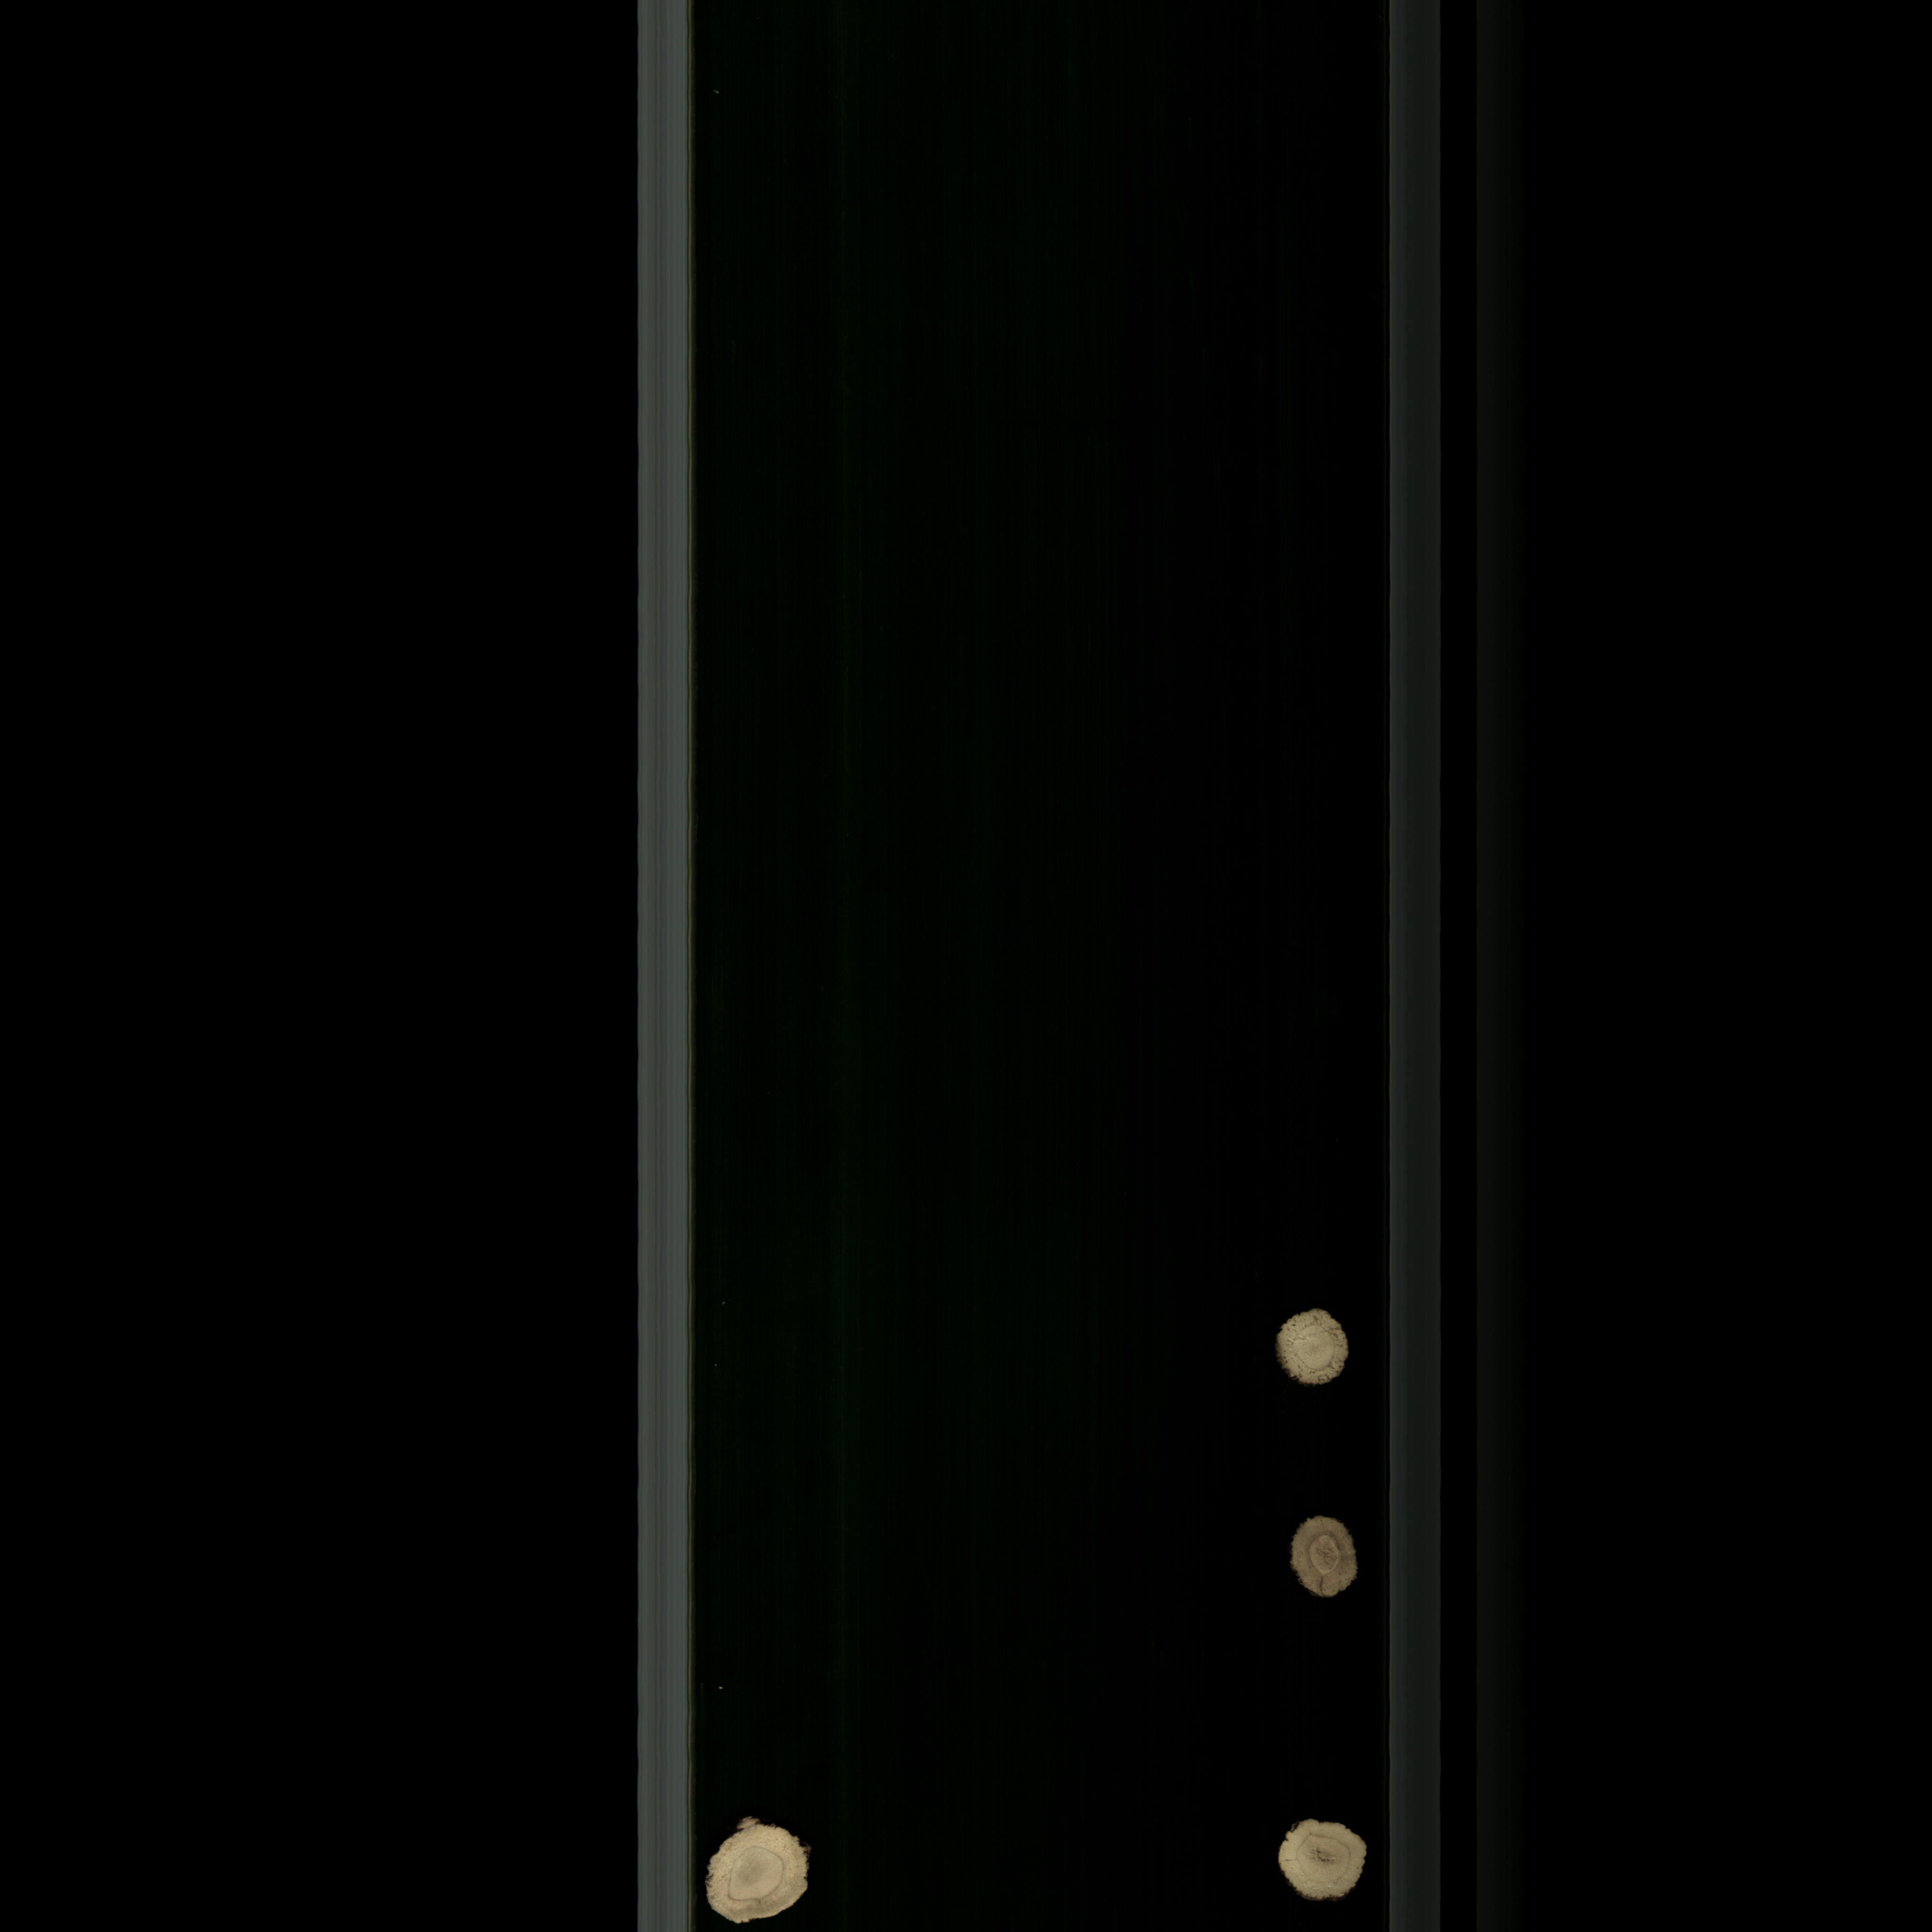debris: (702, 1806, 830, 1927)
moldy: (1283, 1506, 1364, 1610)
